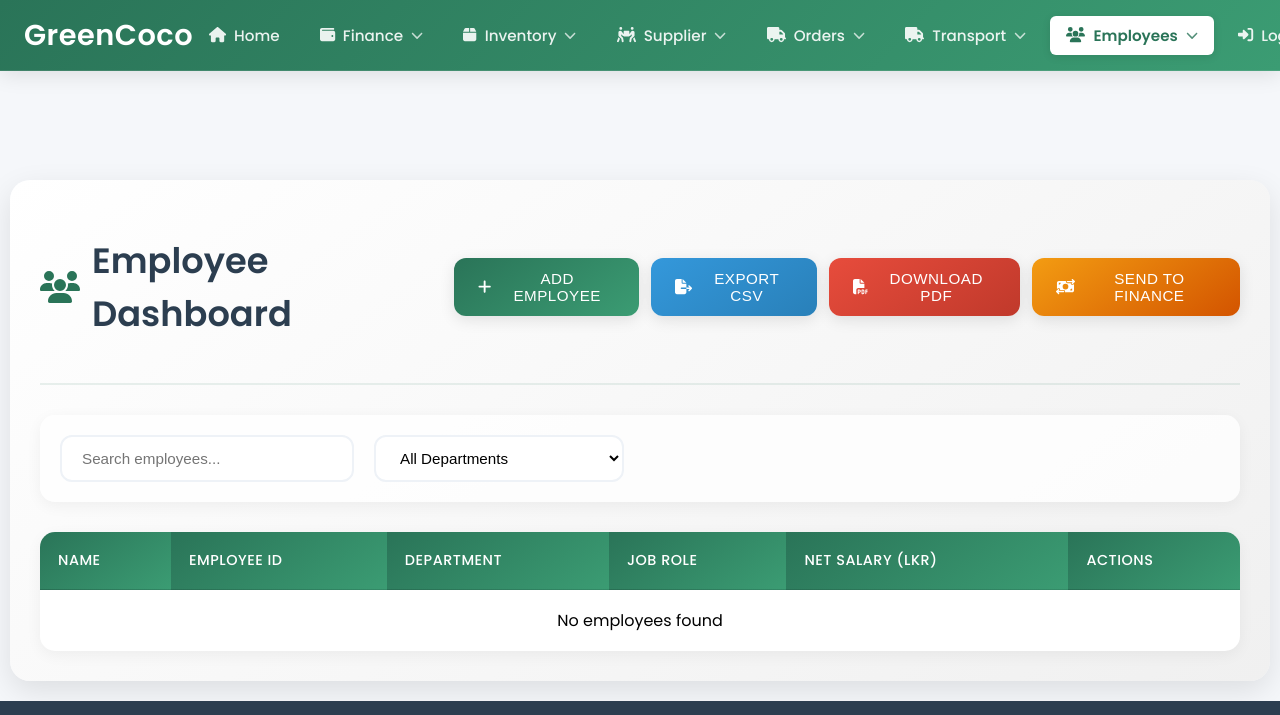
Test: Add Employee Form › should calculate salary components automatically
The width and height of the screenshot is (1280, 715).
Click the button "Add Employee" at (547, 287), box [454, 258, 639, 316]
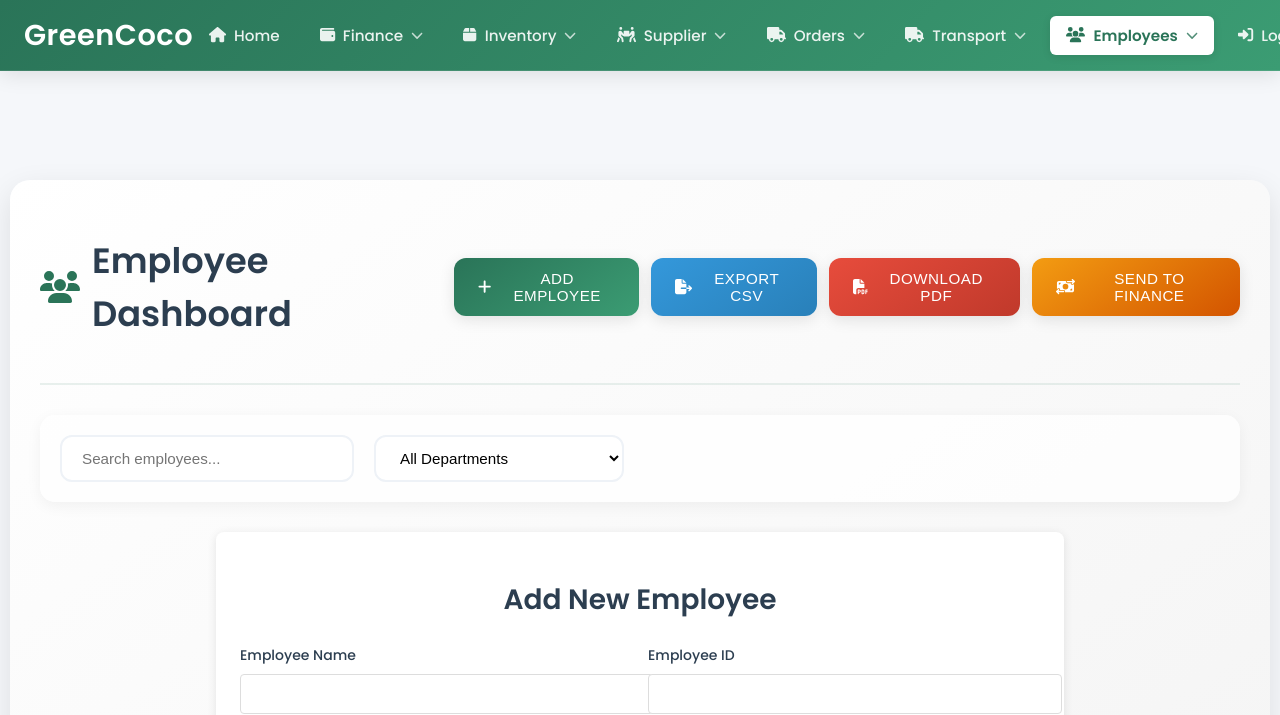
Scroll
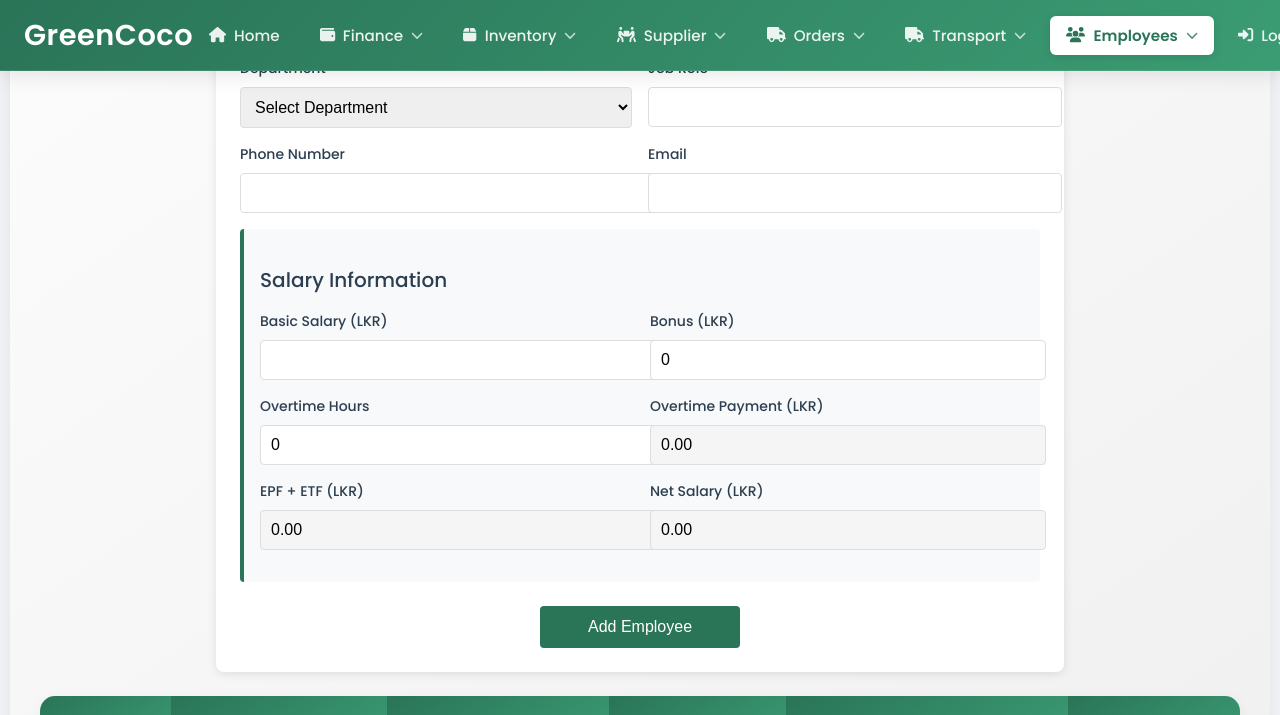
Type "50000" into the number field with id "BasicSalary" at (458, 360), box [260, 340, 656, 380]
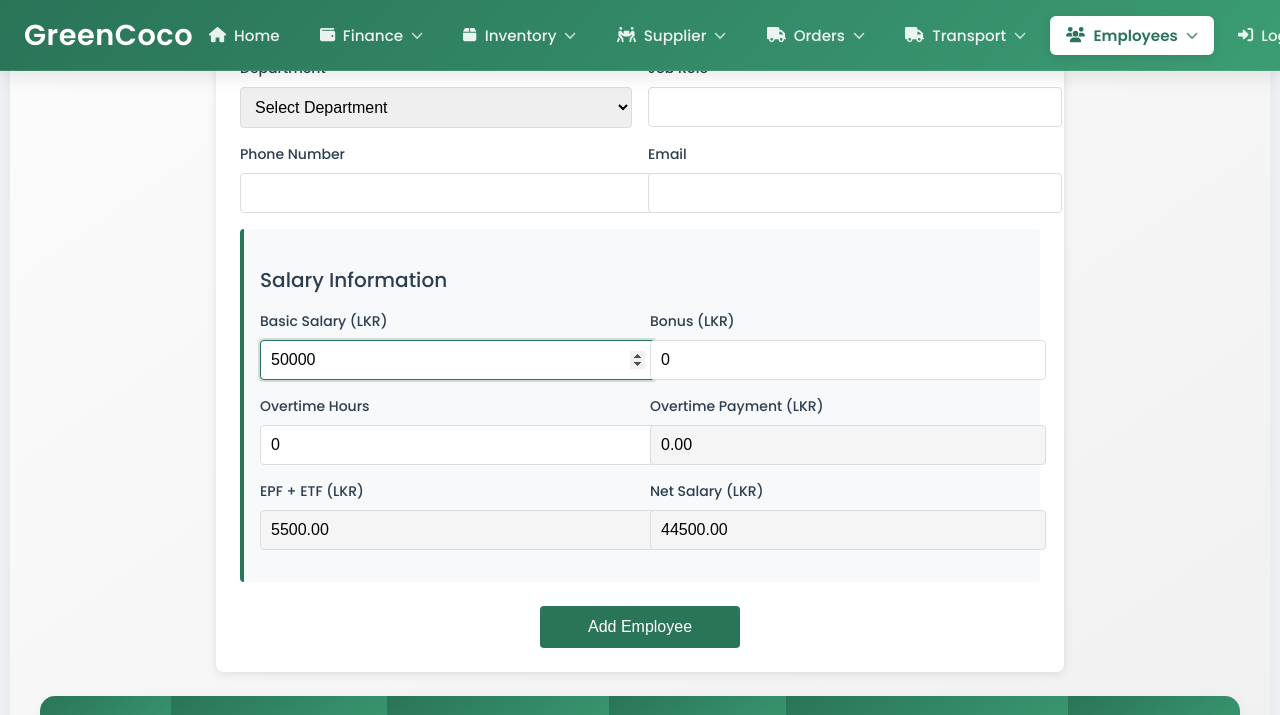
Now the number field with id "EPF_ETF" holds "5500.00", box [260, 510, 656, 550]
Now the number field with id "NetSalary" holds "44500.00", box [650, 510, 1046, 550]
Type "10" into the number field with id "OverTimeHours" at (458, 445), box [260, 425, 656, 465]
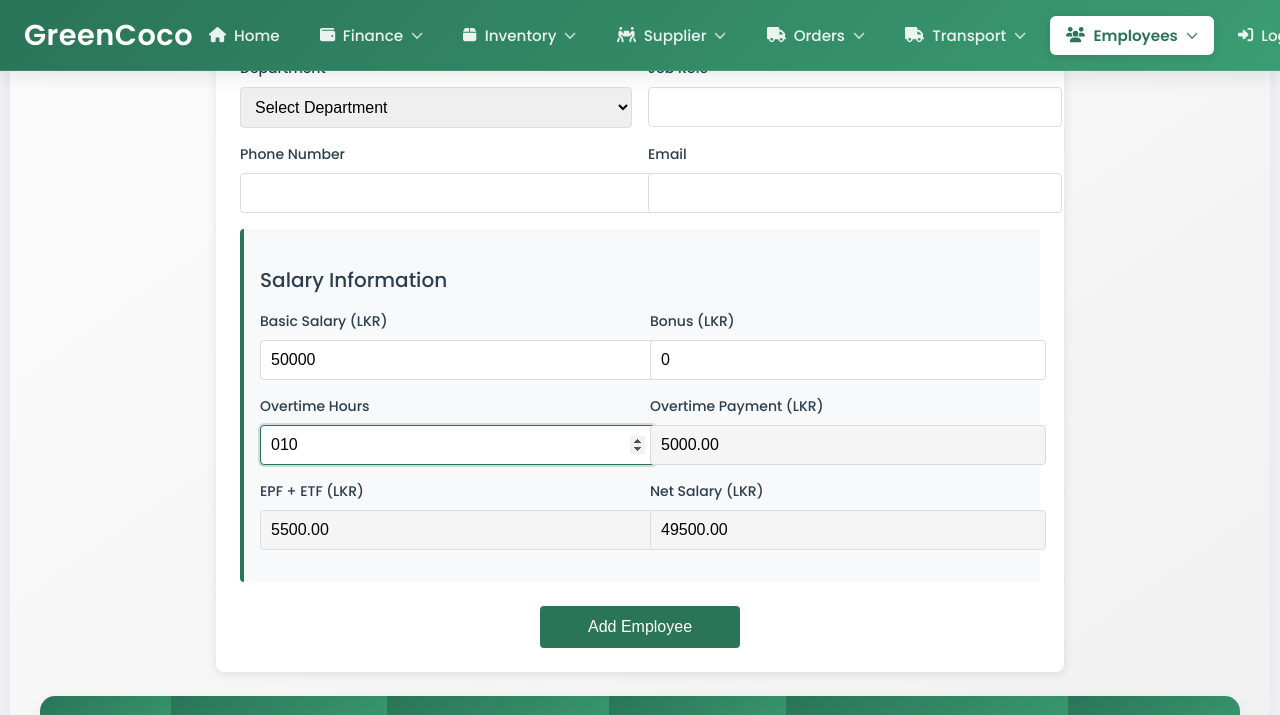
Now the number field with id "OverTimePayment" holds "5000.00", box [650, 425, 1046, 465]
Now the number field with id "NetSalary" holds "49500.00", box [650, 510, 1046, 550]
Type "3000" into the number field with id "Bonus" at (848, 360), box [650, 340, 1046, 380]
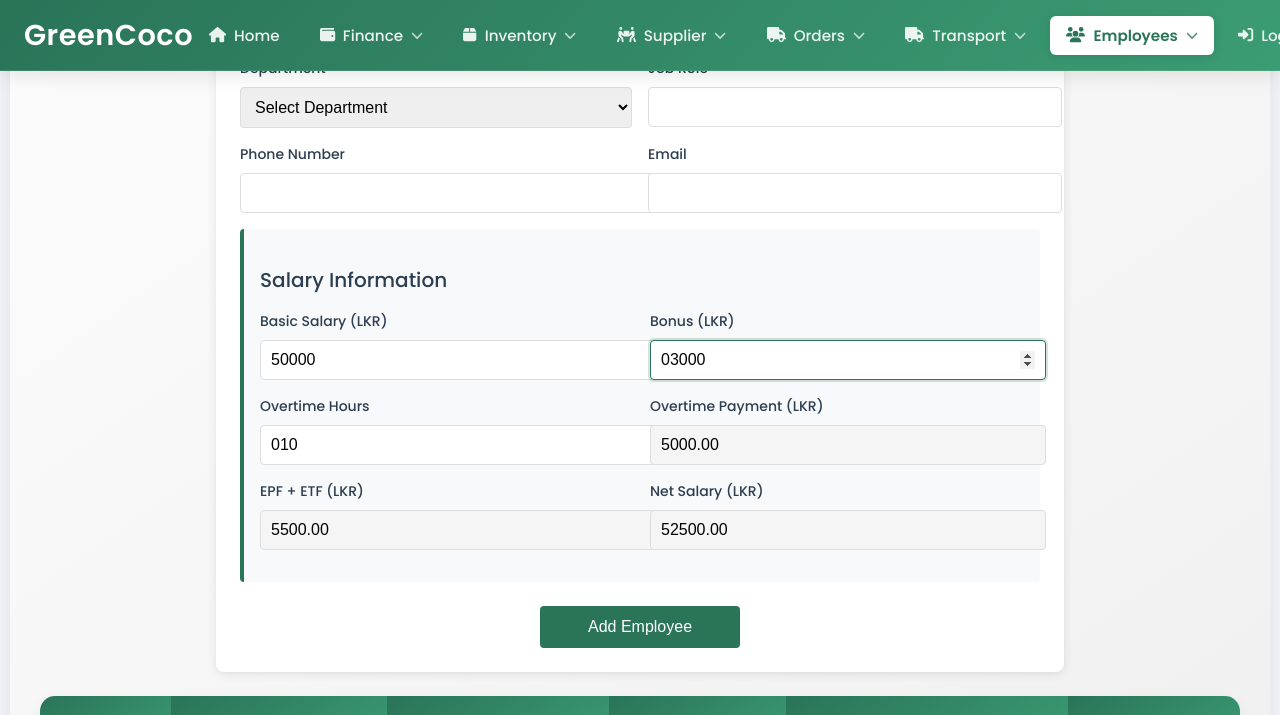
Now the number field with id "NetSalary" holds "52500.00", box [650, 510, 1046, 550]
